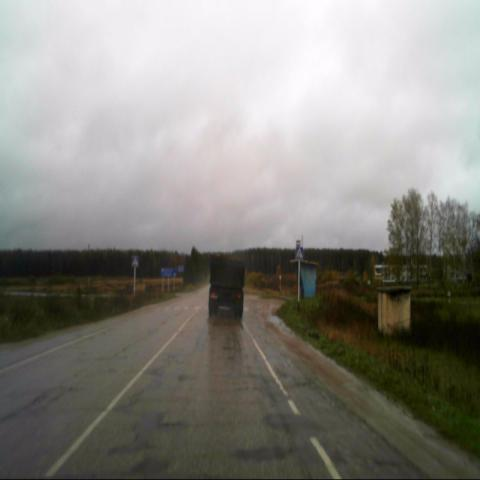5_19_1: (294, 245, 304, 262), (130, 255, 138, 267)
